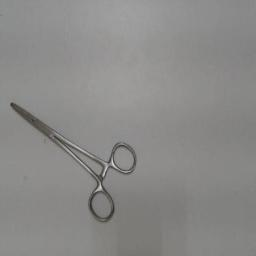Mayo Needle Holder: (4, 94, 142, 228)
